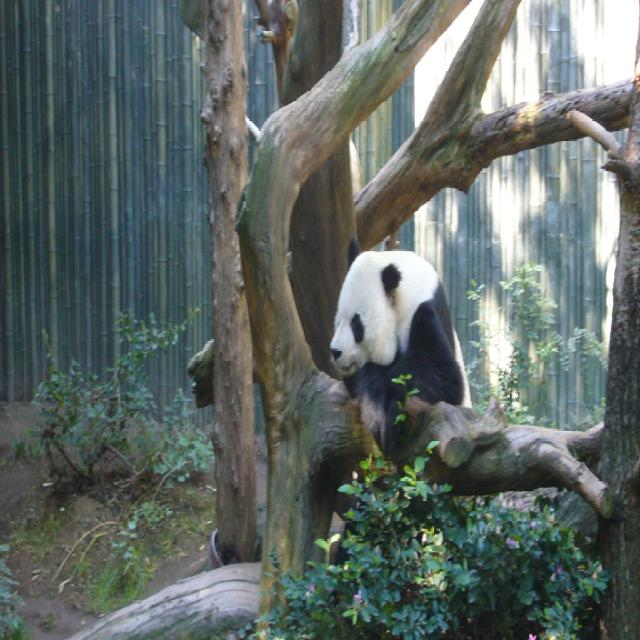panda: (328, 234, 473, 442)
